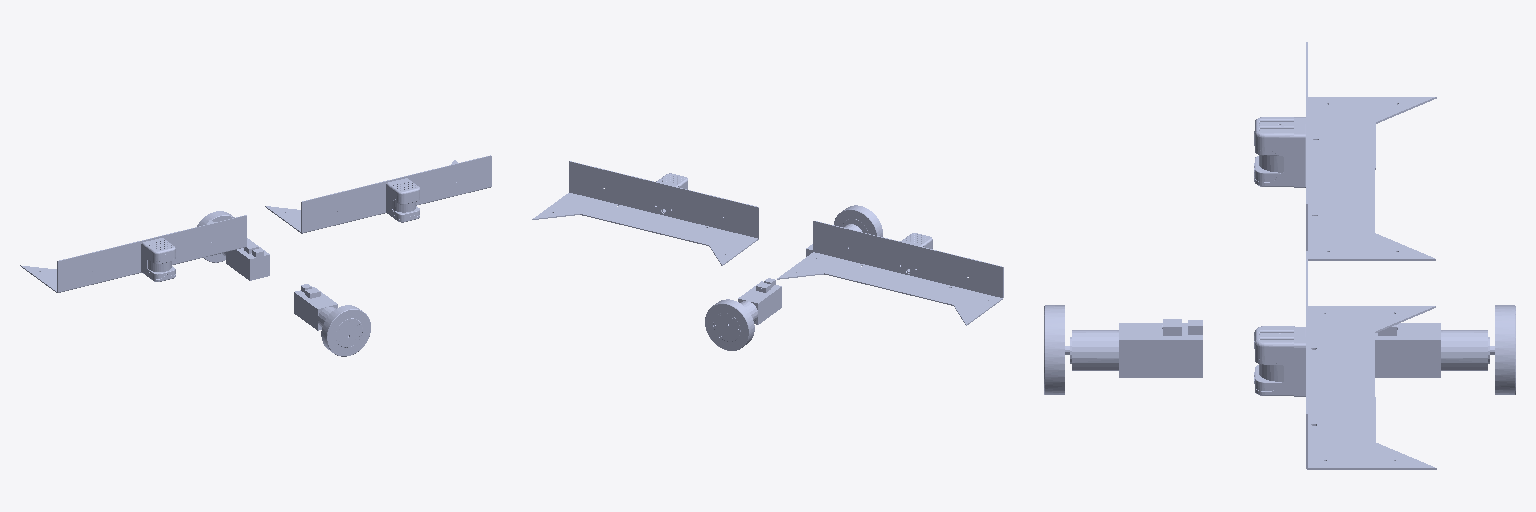
The robot description file, URDF, robot "ip200":
<?xml version="1.0" encoding="utf-8"?>
<!-- This URDF was automatically created by SolidWorks to URDF Exporter! Originally created by [author] ([email redacted]) 
     Commit Version: 1.6.0-1-g15f4949  Build Version: 1.6.7594.29634
     For more information, please see http://wiki.ros.org/sw_urdf_exporter -->
<robot
  name="ip200">
  <link name="base_footprint"/>

  <joint name="base_joint" type="fixed">
    <parent link="base_footprint"/>
    <child link="base_link" />
    <!-- <origin xyz="0 0 0.0335" rpy="0 0 0"/> -->
    <origin xyz="0 0 0.0335" rpy="0 0 0"/>
  </joint>

  <link
    name="base_link">
    <inertial>
      <origin
        xyz="-8.074233413775E-05 0.00167010666358344 0.253055984044282"
        rpy="0 0 0" />
      <mass
        value="19.2341768436338" />
      <inertia
        ixx="0.73131577307895"
        ixy="0.00084688488709123"
        ixz="0.00164494760727376"
        iyy="0.724104006445325"
        iyz="-5.57752444312045E-05"
        izz="1.39581073958625" />
    </inertial>
    <visual>
      <origin
        xyz="0 0 0"
        rpy="0 0 0" />
      <geometry>
        <mesh
          filename="package://ip200_description/meshes/rw_description.STL" />
      </geometry>
      <material
        name="">
        <color
          rgba="0.792156862745098 0.819607843137255 0.933333333333333 1" />
      </material>
    </visual>
    <collision>
      <origin
        xyz="0 0 0"
        rpy="0 0 0" />
      <geometry>
        <mesh
          filename="package://ip200_description/meshes/rw_description.STL" />
      </geometry>
    </collision>
  </link>
  <link
    name="l_rear_wheel">
    <inertial>
      <origin
        xyz="3.60441696500543E-06 -0.0923002305760895 0.000587940142489175"
        rpy="0 0 0" />
      <mass
        value="1.04815459938863" />
      <inertia
        ixx="0.00261088701633814"
        ixy="1.31102007184665E-08"
        ixz="-3.81505861905977E-08"
        iyy="0.00121500177792377"
        iyz="3.58019706903565E-05"
        izz="0.00258940454618749" />
    </inertial>
    <visual>
      <origin
        xyz="0 0 0"
        rpy="0 0 0" />
      <geometry>
        <mesh
          filename="package://ip200_description/meshes/l_rear_wheel.STL" />
      </geometry>
      <material
        name="">
        <color
          rgba="0.792156862745098 0.819607843137255 0.933333333333333 1" />
      </material>
    </visual>
    <collision>
      <origin
        xyz="0 0 0"
        rpy="0 0 0" />
      <geometry>
        <mesh
          filename="package://ip200_description/meshes/l_rear_wheel.STL" />
      </geometry>
    </collision>
  </link>
  <joint
    name="l_rear_wheel"
    type="continuous">
    <origin
      xyz="0 0.3405 0.0649999999999999"
      rpy="0 0 0" />
    <parent
      link="base_link" />
    <child
      link="l_rear_wheel" />
    <axis
      xyz="0 -1 0" />
  </joint>
  <link
    name="r_rear_wheel">
    <inertial>
      <origin
        xyz="-1.93085150211863E-07 0.0922981752597209 0.000601150921649272"
        rpy="0 0 0" />
      <mass
        value="1.04812748709294" />
      <inertia
        ixx="0.00261080454514841"
        ixy="1.80765553467149E-08"
        ixz="8.41125092686639E-09"
        iyy="0.00121496443053289"
        iyz="-3.57478245635109E-05"
        izz="0.0025893893403154" />
    </inertial>
    <visual>
      <origin
        xyz="0 0 0"
        rpy="0 0 0" />
      <geometry>
        <mesh
          filename="package://ip200_description/meshes/r_rear_wheel.STL" />
      </geometry>
      <material
        name="">
        <color
          rgba="0.792156862745098 0.819607843137255 0.933333333333333 1" />
      </material>
    </visual>
    <collision>
      <origin
        xyz="0 0 0"
        rpy="0 0 0" />
      <geometry>
        <mesh
          filename="package://ip200_description/meshes/r_rear_wheel.STL" />
      </geometry>
    </collision>
  </link>
  <joint
    name="r_rear_wheel"
    type="continuous">
    <origin
      xyz="0 -0.3405 0.0649999999996"
      rpy="0 0 0" />
    <parent
      link="base_link" />
    <child
      link="r_rear_wheel" />
    <axis
      xyz="0 1 0" />
  </joint>
  <link
    name="laser">
    <inertial>
      <origin
        xyz="-0.0633925543300677 -6.19753136898854E-05 -0.0147536372771876"
        rpy="0 0 0" />
      <mass
        value="0.385651153728386" />
      <inertia
        ixx="0.00973637361531699"
        ixy="-4.55675275538205E-11"
        ixz="-0.000217121449304545"
        iyy="0.000870251294406086"
        iyz="1.24939133642565E-11"
        izz="0.00999879780357618" />
    </inertial>
    <visual>
      <origin
        xyz="0 0 0"
        rpy="0 0 0" />
      <geometry>
        <mesh
          filename="package://ip200_description/meshes/front_lidar.STL" />
      </geometry>
      <material
        name="">
        <color
          rgba="0.792156862745098 0.819607843137255 0.933333333333333 1" />
      </material>
    </visual>
    <collision>
      <origin
        xyz="0 0 0"
        rpy="0 0 0" />
      <geometry>
        <mesh
          filename="package://ip200_description/meshes/front_lidar.STL" />
      </geometry>
    </collision>
  </link>
  <joint
    name="laser"
    type="continuous">
    <origin
      xyz="0.3578605350155 0 0.2092511729546"
      rpy="0 0 -1.57" />
    <parent
      link="base_link" />
    <child
      link="laser" />
    <axis
      xyz="0 0 1" />
  </joint>

  <link
    name="rear_lidar">
    <inertial>
      <origin
        xyz="0.0633895966524598 6.19753136896356E-05 -0.0147536372771875"
        rpy="0 0 0" />
      <mass
        value="0.385651153728386" />
      <inertia
        ixx="0.00973637361531705"
        ixy="-4.55675265329909E-11"
        ixz="0.000217099148045366"
        iyy="0.000870212405273177"
        iyz="-1.2493916469303E-11"
        izz="0.00999875891444332" />
    </inertial>
    <visual>
      <origin
        xyz="0 0 0"
        rpy="0 0 0" />
      <geometry>
        <mesh
          filename="package://ip200_description/meshes/rear_lidar.STL" />
      </geometry>
      <material
        name="">
        <color
          rgba="0.792156862745098 0.819607843137255 0.933333333333333 1" />
      </material>
    </visual>
    <collision>
      <origin
        xyz="0 0 0"
        rpy="0 0 0" />
      <geometry>
        <mesh
          filename="package://ip200_description/meshes/rear_lidar.STL" />
      </geometry>
    </collision>
  </link>

  <joint
    name="rear_lidar"
    type="continuous">
    <origin
      xyz="-0.3578605350155 0 0.2092511729546"
      rpy="0 0 1.57" />
    <parent
      link="base_link" />
    <child
      link="rear_lidar" />
    <axis
      xyz="0 0 1" />
  </joint>
</robot>

--- Render facts (derived) ---
3 views of the same robot in one strip: view 1: azimuth 30°, elevation 25°; view 2: azimuth 150°, elevation 25°; view 3: azimuth 270°, elevation 25° (orthographic).
Robot: ip200 — 6 links, 5 joints (4 continuous, 1 fixed); root link base_footprint; default pose: every joint at zero.
Visible links, largest first — view 1: laser, rear_lidar, r_rear_wheel, l_rear_wheel; view 2: rear_lidar, laser, l_rear_wheel, r_rear_wheel; view 3: rear_lidar, laser, r_rear_wheel, l_rear_wheel.
Boxes of the visible links, x1=… form: laser: x1=265, y1=155, x2=491, y2=233; rear_lidar: x1=20, y1=215, x2=246, y2=292; r_rear_wheel: x1=294, y1=284, x2=370, y2=356; l_rear_wheel: x1=197, y1=211, x2=269, y2=280; rear_lidar: x1=777, y1=221, x2=1003, y2=325; laser: x1=532, y1=161, x2=758, y2=265; l_rear_wheel: x1=705, y1=278, x2=781, y2=350; r_rear_wheel: x1=806, y1=205, x2=882, y2=274; rear_lidar: x1=1254, y1=42, x2=1436, y2=260; laser: x1=1254, y1=251, x2=1436, y2=469; r_rear_wheel: x1=1044, y1=305, x2=1202, y2=394; l_rear_wheel: x1=1375, y1=305, x2=1515, y2=394.
Size in the robot's own frame: 1.27 by 0.681 by 0.2605 metres.
4 mesh visuals loaded from 5 distinct referenced files (4 binary STL); not drawn: 1 (reference not matched to a file when rendering).
